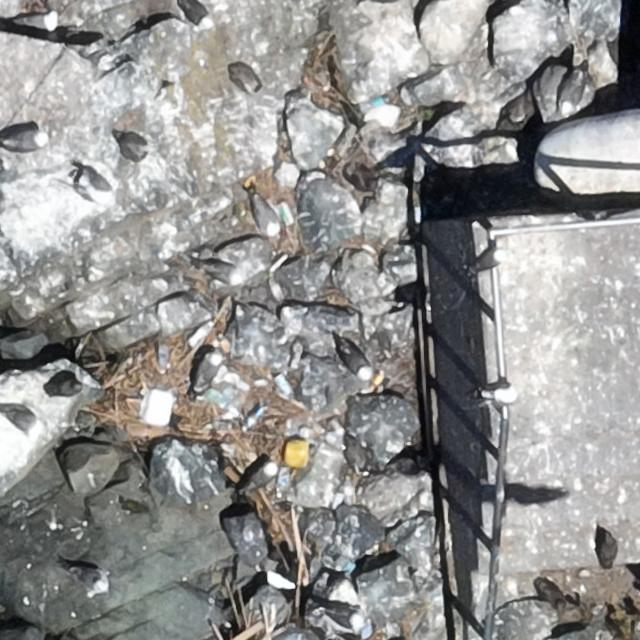umineko: (75, 162, 116, 208), (188, 352, 221, 398), (559, 64, 588, 113), (474, 378, 517, 408), (68, 564, 109, 594), (340, 346, 370, 378), (179, 0, 210, 27), (254, 198, 277, 231), (204, 261, 238, 283), (5, 409, 37, 431), (248, 465, 276, 490), (7, 132, 39, 150), (330, 610, 358, 630), (21, 14, 55, 29)
